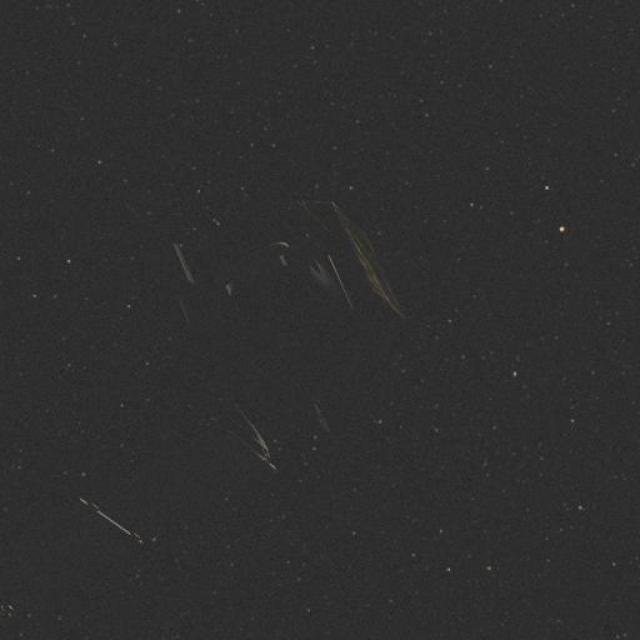earth_observation_sat_1: (165, 191, 385, 340)
